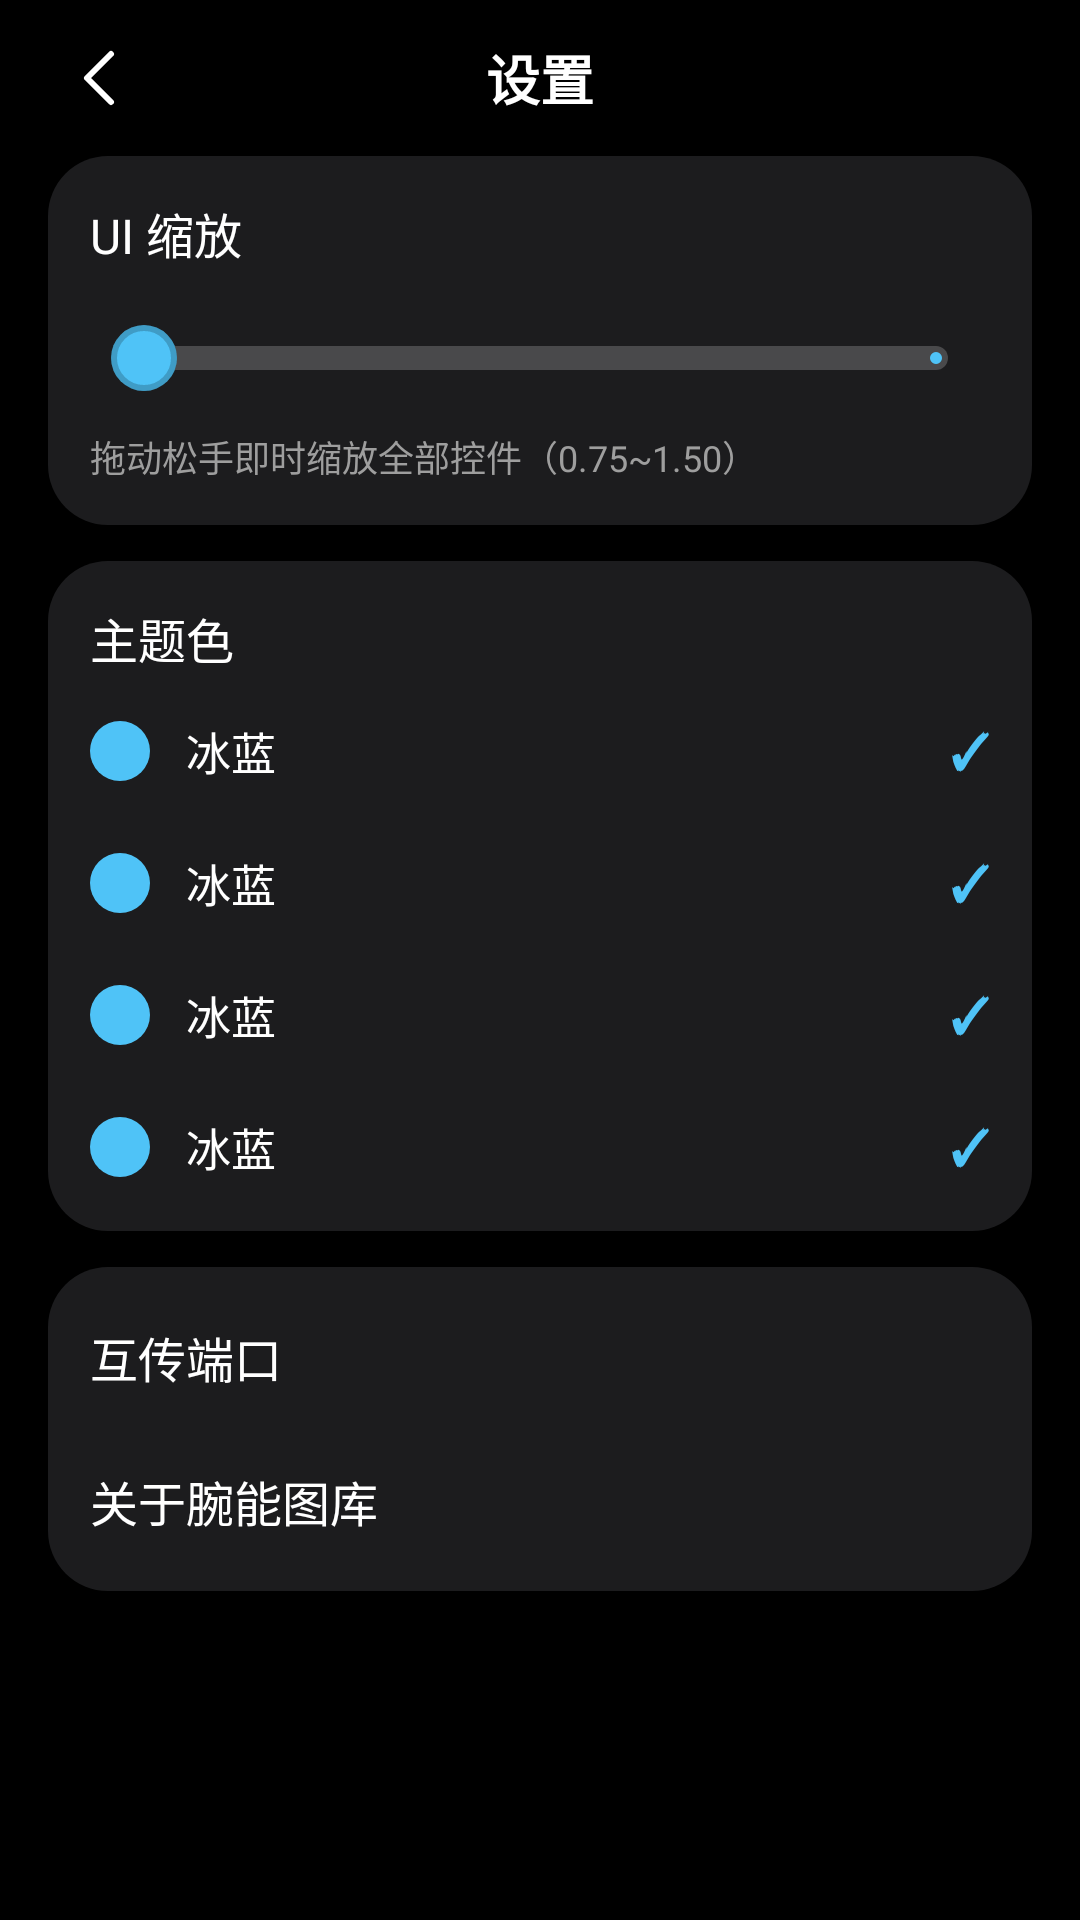

Named icons in this screenshot (1080 × 1920) and their bounding boxes, region(x1, y1, x2, y2):
返回: region(84, 50, 114, 105)
